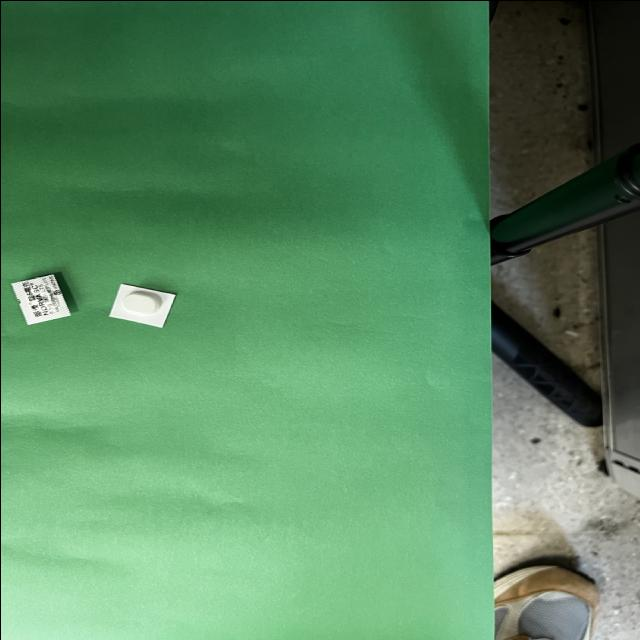Other Objects: (11, 274, 70, 324), (109, 283, 176, 326), (49, 298, 64, 307)
